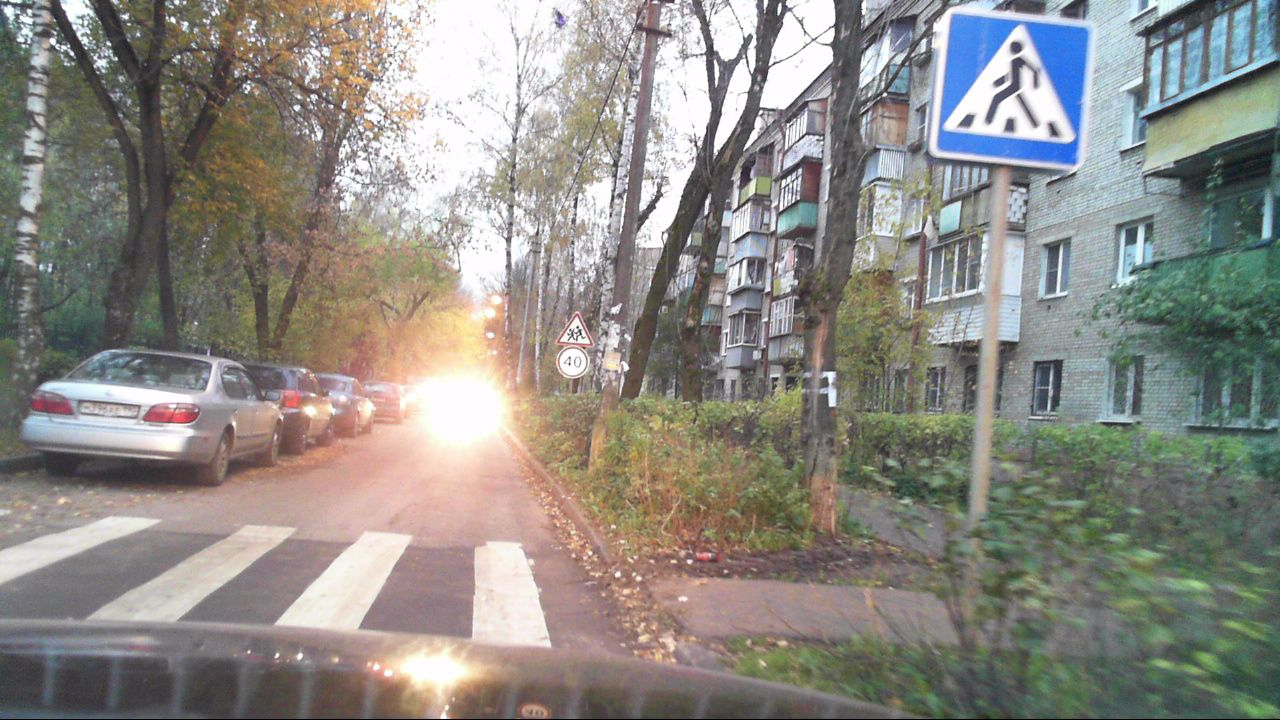speed_warning_40: (556, 346, 589, 379)
